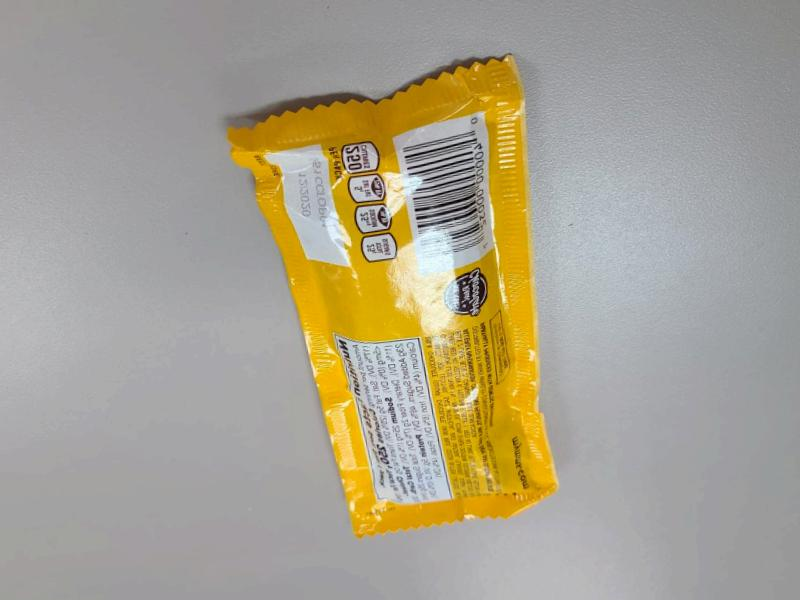m&m: (241, 108, 592, 578)
